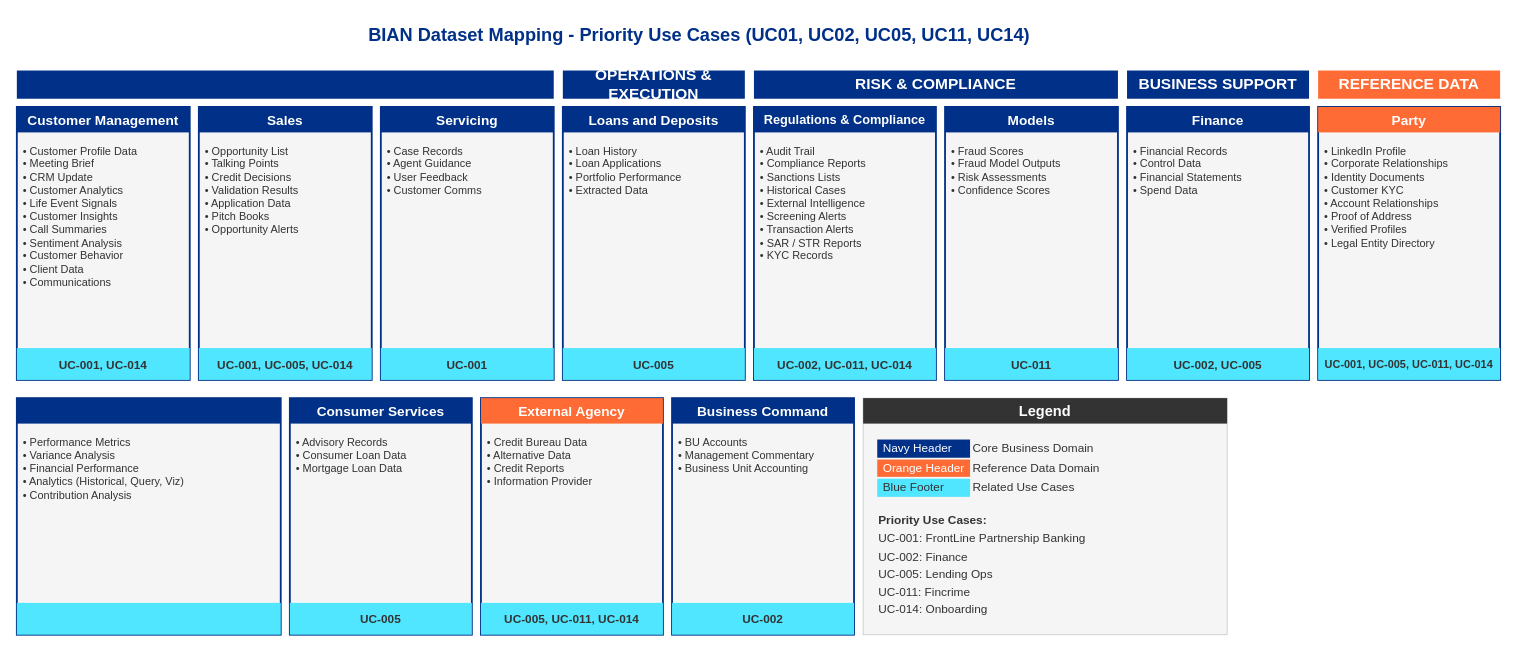
The diagram is 1516 pixels wide and 651 high, and some of its shapes have lost their labels. Here are the shapes that lost their labels. From the top down, the centre of each, then its label:
point 284,84: SALES & SERVICE
point 148,410: Business Analysis
point 148,618: UC-001, UC-002, UC-014
